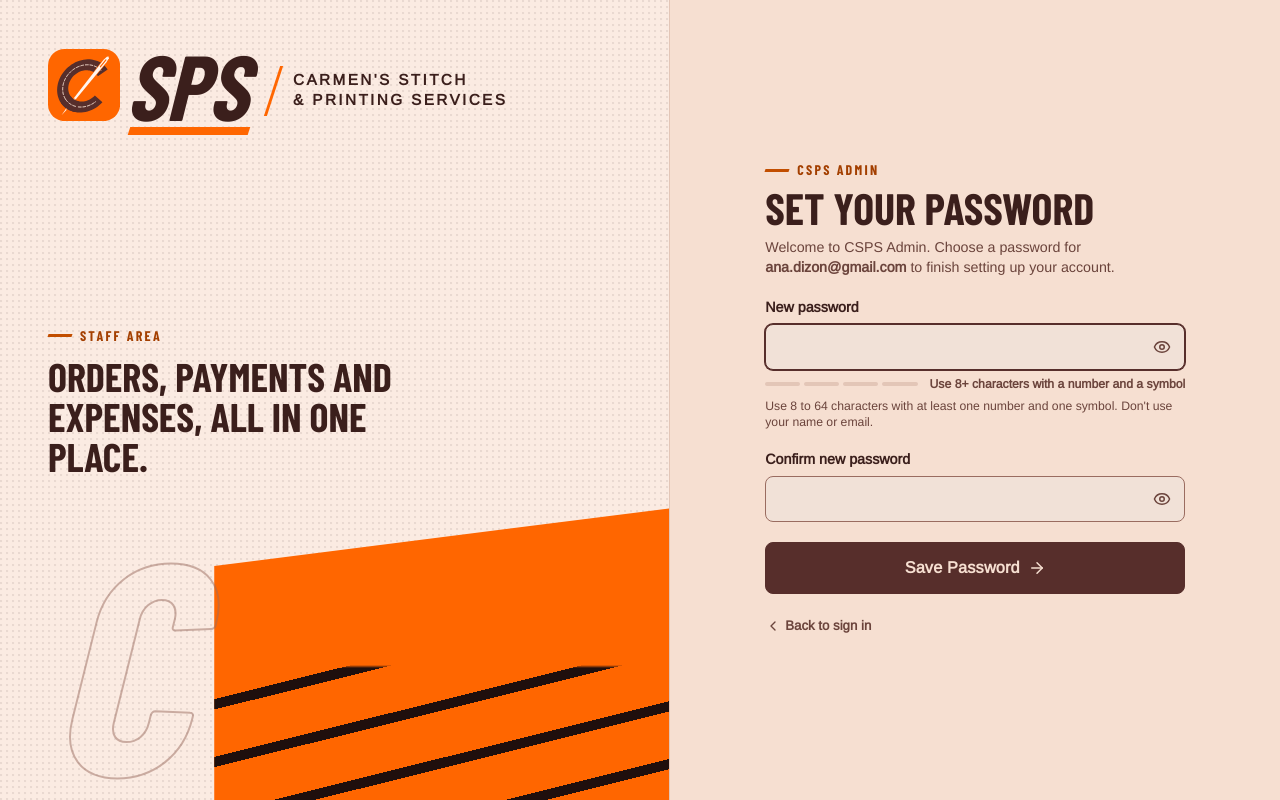
Scenario: S6 saving › shows the shared banner for a failure that is not the password, and keeps what was typed
Type "Mabuhay#Tahi2026" into the password field labelled "New password". click: (975, 347)
box: [766,325,1184,369]
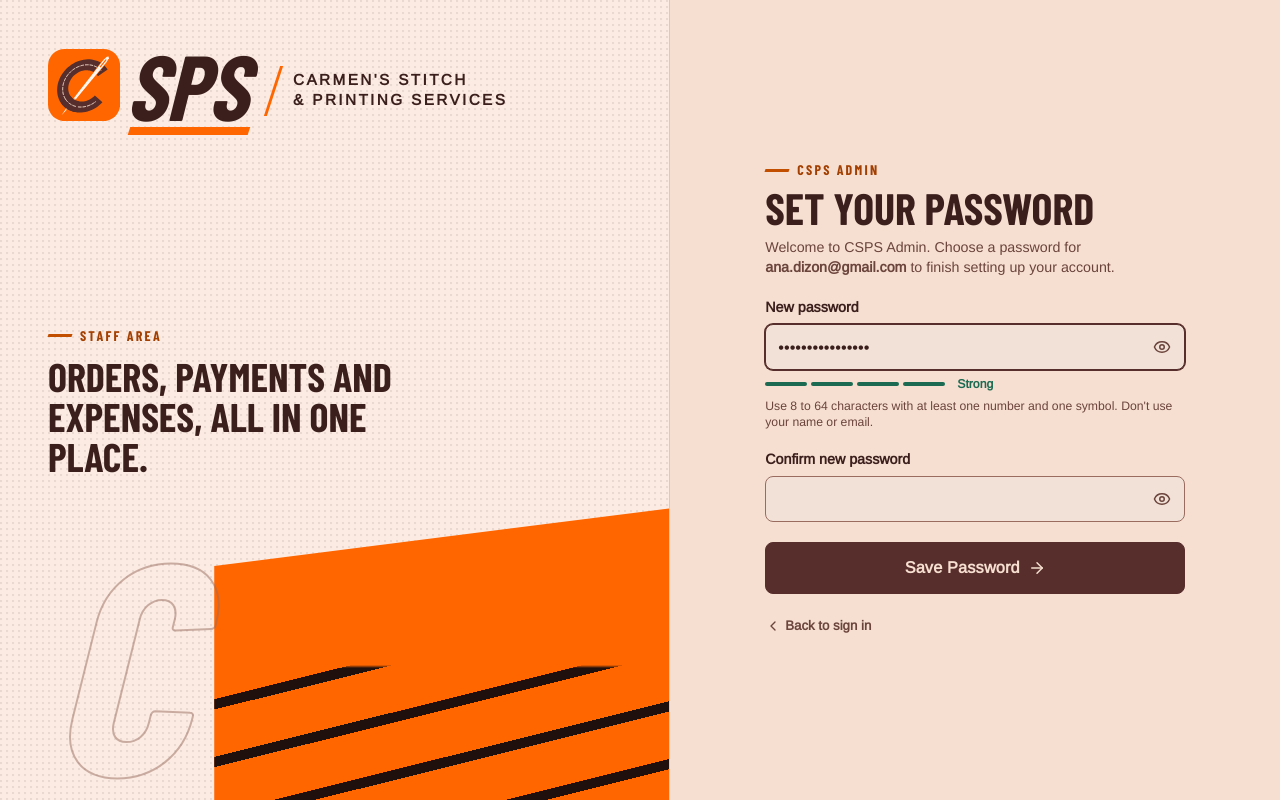
Type "Mabuhay#Tahi2026" into the password field labelled "Confirm new password". click: (975, 499)
box: [766,477,1184,521]
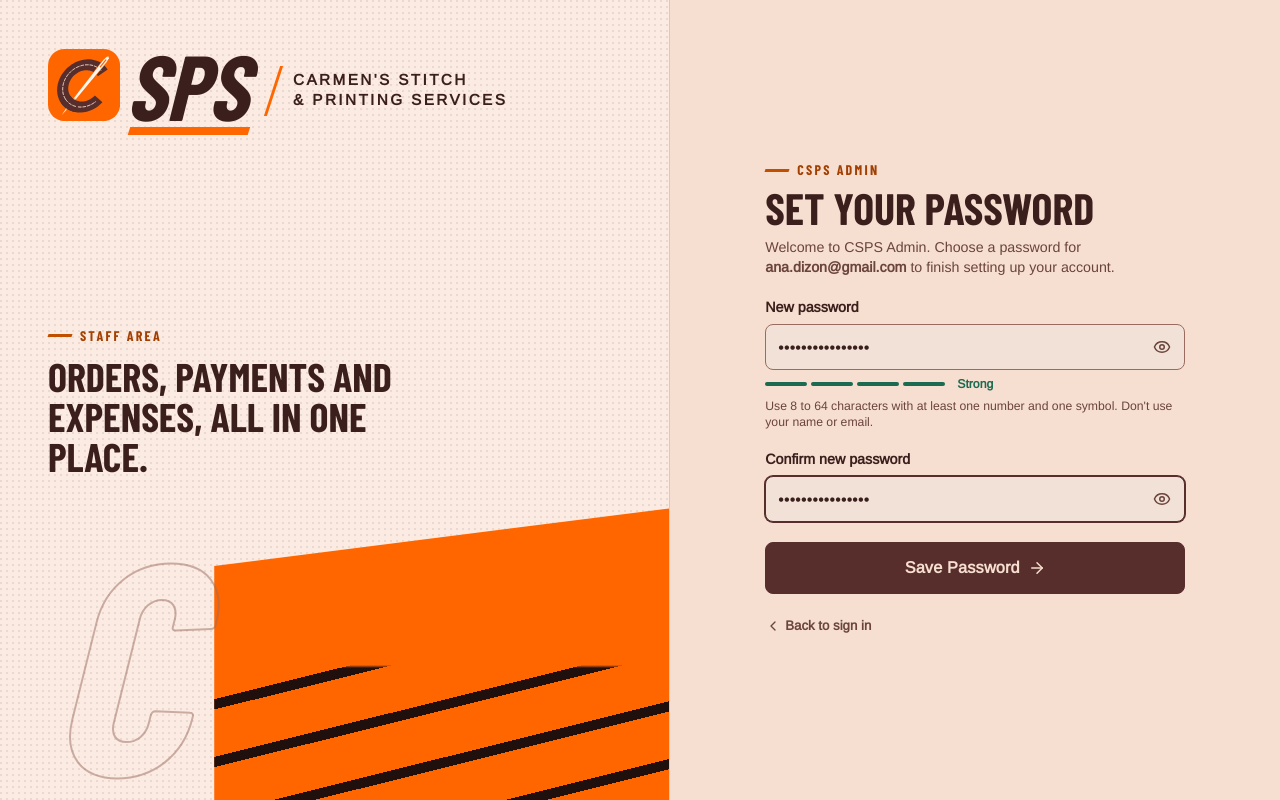
Click the button "Save Password". click: (975, 568)
box: [765,542,1185,594]
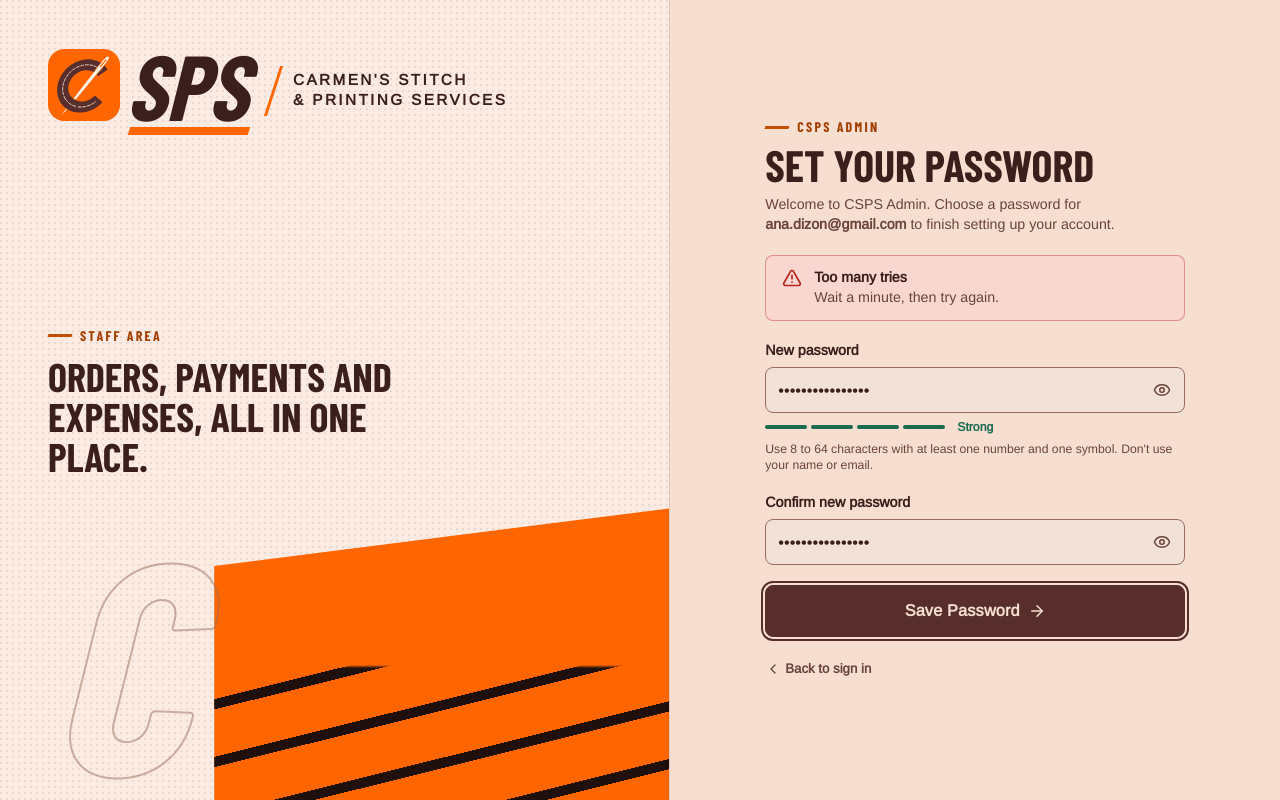
Now the text "Too many tries" is shown, box [814,270,907,285]
